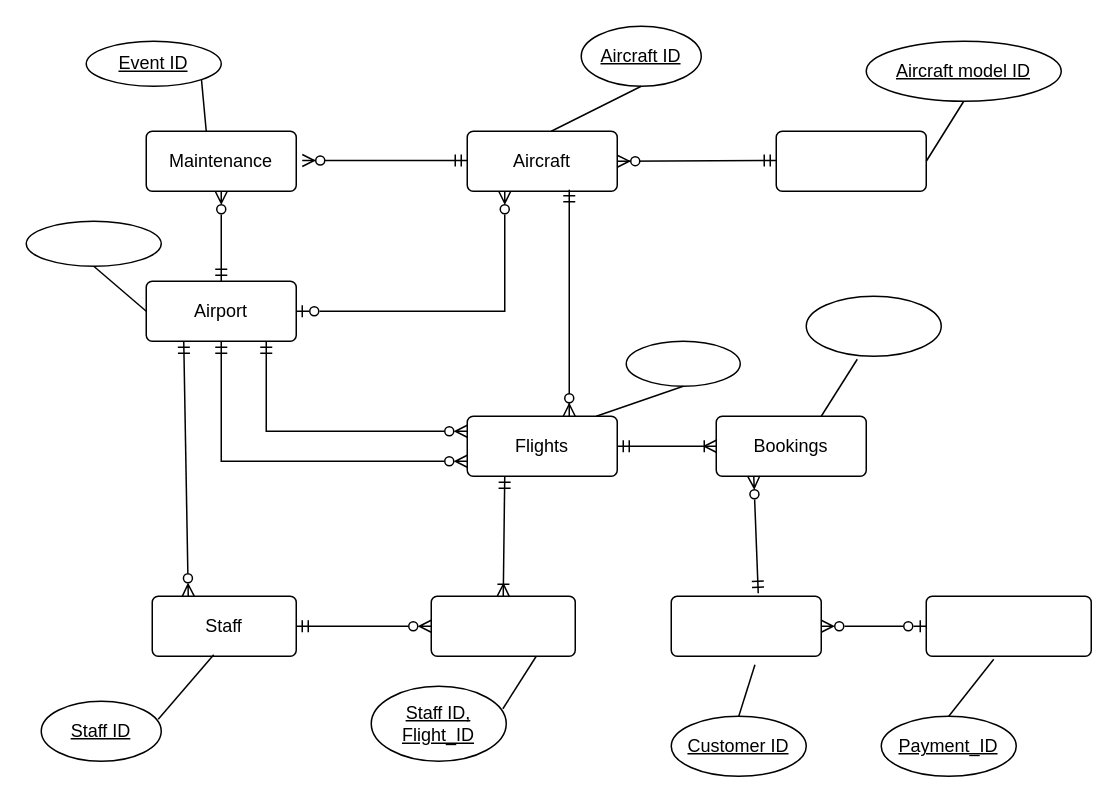
The diagram is 1118 pixels wide and 803 high, and some of its shapes have lost their labels. The box of each missing label's shape, as (x1, y1, x2, y2) in pixels:
Aircraft_Model: (775, 130, 926, 191)
Airport ID: (25, 220, 161, 266)
Booking ID: (805, 295, 941, 356)
Customers: (670, 595, 821, 656)
Flight ID: (625, 340, 740, 386)
Flight_Staff: (430, 595, 575, 656)
Payment_Methods: (925, 595, 1091, 656)
